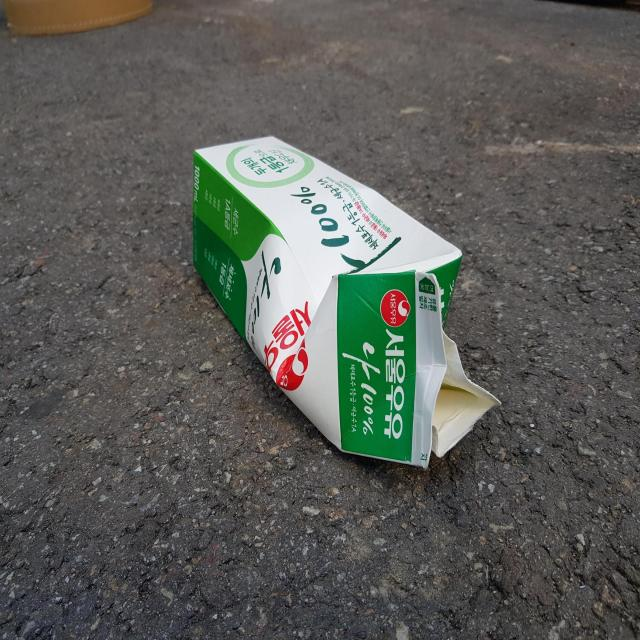paperpack: (193, 136, 500, 468)
